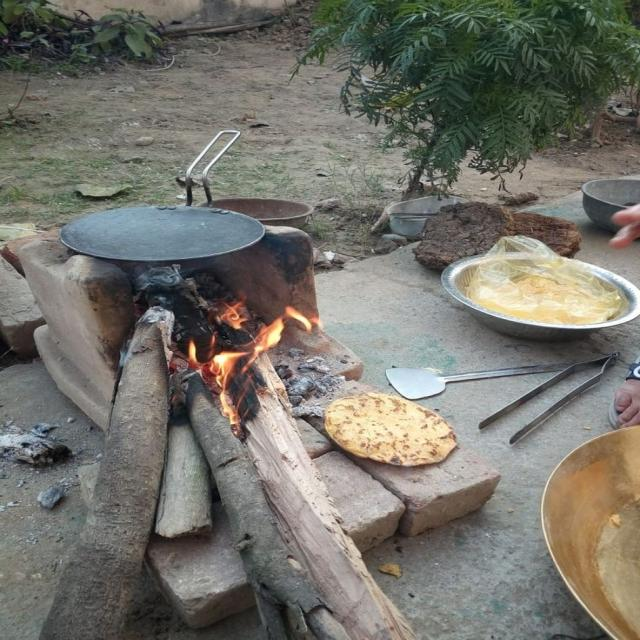fire: (209, 351, 239, 425)
